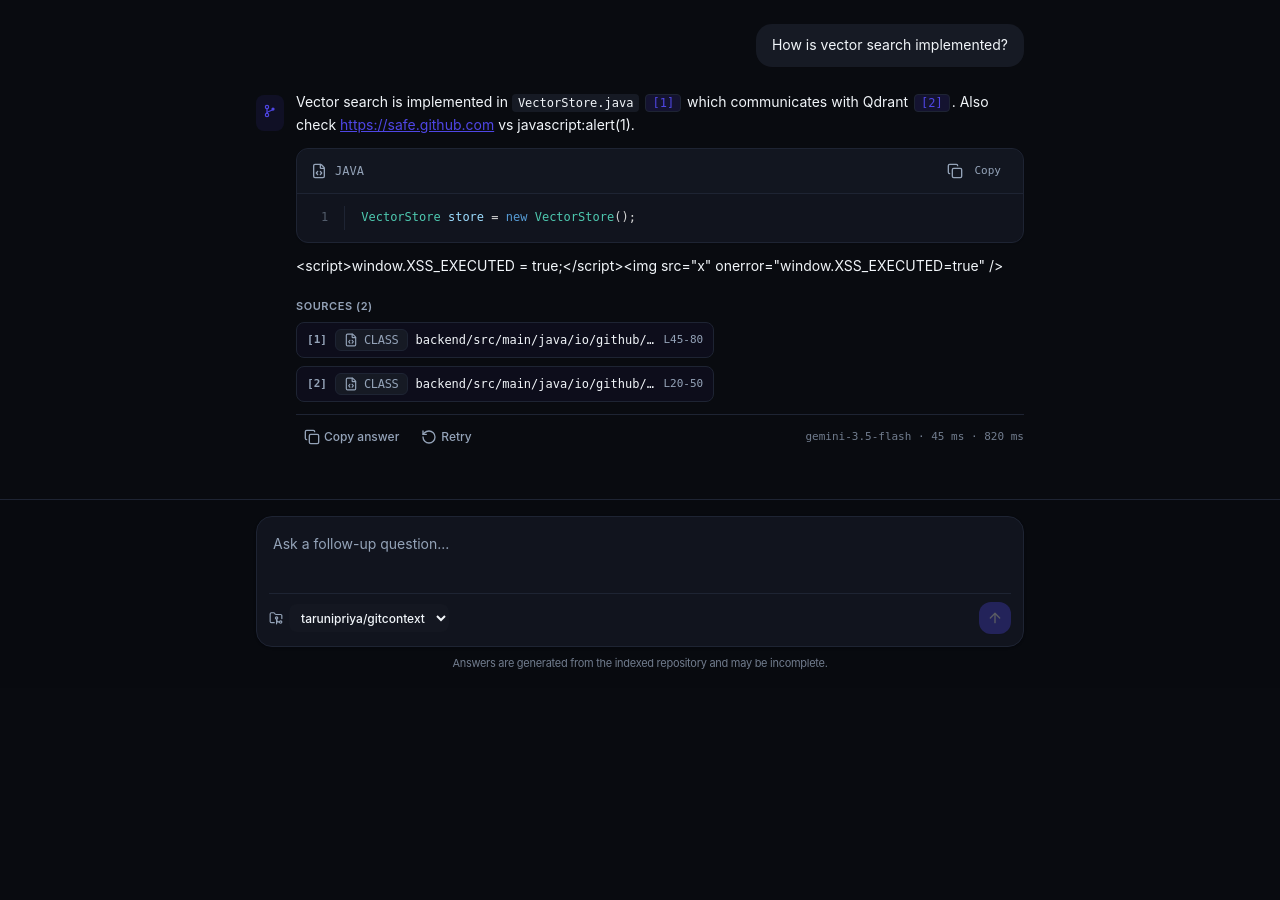
it: ConversationView Component › citation chip [1] opens right-side source panel Sheet with correct path and lines
The image size is (1280, 900).
Click the button with test id "citation-chip-1".
click(663, 103)  # box [645, 94, 681, 112]
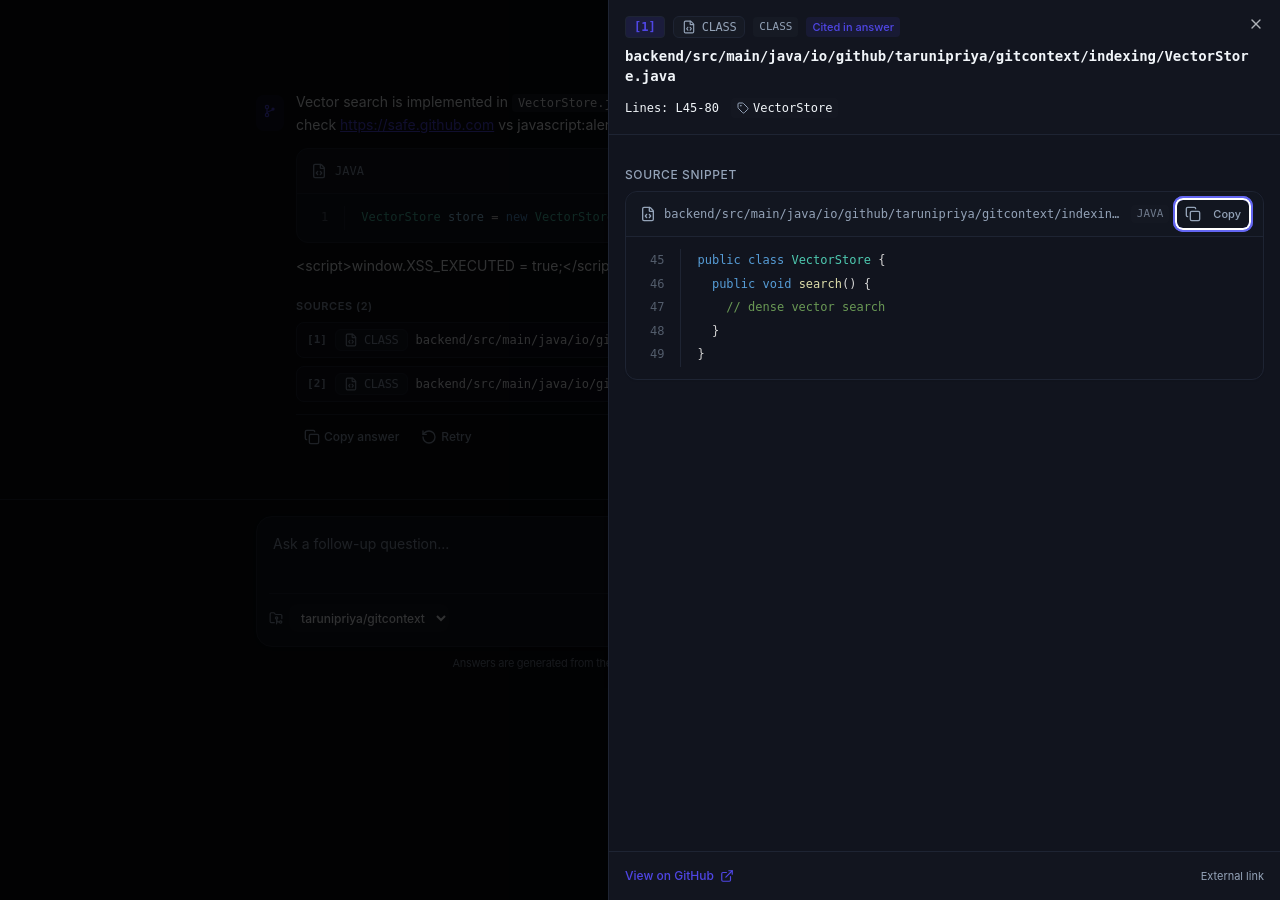
Now the dialog with test id "source-panel" is shown, box [608, 0, 1279, 899]
Now the heading with test id "source-panel-path" reads "backend/src/main/java/io/github/tarunipriya/gitcontext/indexing/VectorStore.java", box [625, 48, 1249, 84]
Now the text with test id "source-panel-lines" reads "Lines: L45-80", box [625, 100, 719, 116]
